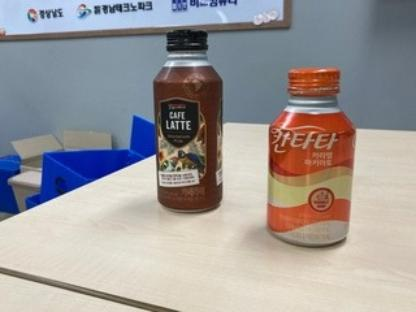Can: (262, 60, 360, 252), (148, 24, 228, 218)
